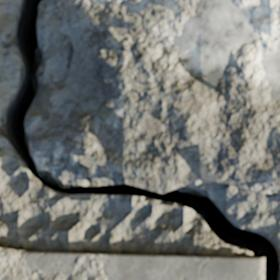brick: (33, 0, 279, 192), (0, 248, 263, 279)
crack: (0, 0, 279, 279)
